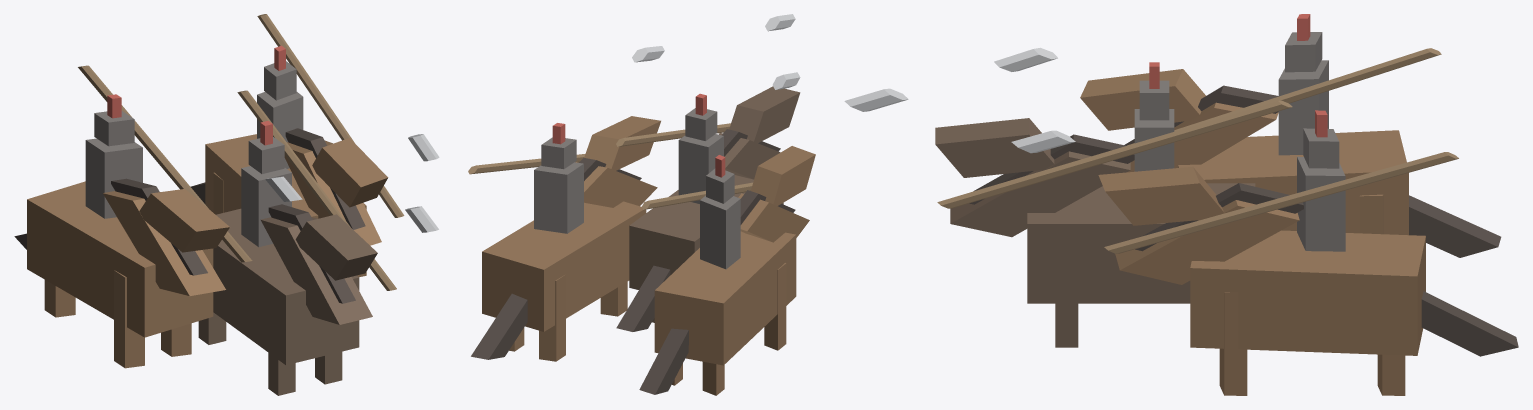
The model's file is cavalry.glb.
3 views of the same model, side by side, from view 1: azimuth 30°, elevation 25°; view 2: azimuth 150°, elevation 25°; view 3: azimuth 270°, elevation 25° (orthographic). The views are drawn at different scales.
Visible parts, largest first — view 1: u1_body, u0_body, u1_neck, u0_neck, u1_head, u0_head, u2_head, u1_rider, u2_body, u0_rider, u2_neck, u1_leg_fl (+19 smaller); view 2: u2_body, u1_body, u0_body, u2_rider, u1_rider, u0_head, u1_head, u2_head, u0_rider, u2_neck, u2_tail, u1_tail (+19 smaller); view 3: u2_body, u0_body, u1_body, u2_neck, u0_neck, u2_head, u0_head, u1_head, u2_spear, u0_spear, u2_rider, u2_tail (+18 smaller).
Part boxes in pixels (<box>): u1_body: <box>27,181,213,337</box>; u0_body: <box>213,208,359,365</box>; u1_neck: <box>103,191,225,295</box>; u0_neck: <box>260,217,372,324</box>; u1_head: <box>139,189,229,252</box>; u0_head: <box>295,214,377,280</box>; u2_head: <box>312,138,388,207</box>; u1_rider: <box>85,138,142,218</box>; u2_body: <box>205,134,366,277</box>; u0_rider: <box>241,166,291,247</box>; u2_neck: <box>284,140,381,245</box>; u1_leg_fl: <box>114,270,144,368</box>; u2_body: <box>482,201,646,331</box>; u1_body: <box>654,231,796,365</box>; u0_body: <box>629,175,783,289</box>; u2_rider: <box>534,162,583,233</box>; u1_rider: <box>700,195,740,269</box>; u0_head: <box>729,86,800,142</box>; u1_head: <box>751,146,815,205</box>; u2_head: <box>584,116,660,170</box>; u0_rider: <box>678,134,723,203</box>; u2_neck: <box>576,162,657,207</box>; u2_tail: <box>471,293,527,359</box>; u1_tail: <box>639,328,688,394</box>; u2_body: <box>1190,230,1425,355</box>; u0_body: <box>1027,183,1255,303</box>; u1_body: <box>1178,130,1408,235</box>; u2_neck: <box>1115,200,1299,284</box>; u0_neck: <box>950,151,1130,237</box>; u2_head: <box>1098,166,1224,225</box>; u0_head: <box>935,118,1054,177</box>; u1_head: <box>1080,69,1205,130</box>; u2_spear: <box>1104,152,1458,253</box>; u0_spear: <box>937,100,1292,208</box>; u2_rider: <box>1297,156,1345,251</box>; u2_tail: <box>1421,291,1518,356</box>.
Size of the model in its own units: 0.3944 by 0.3335 by 0.7688.
